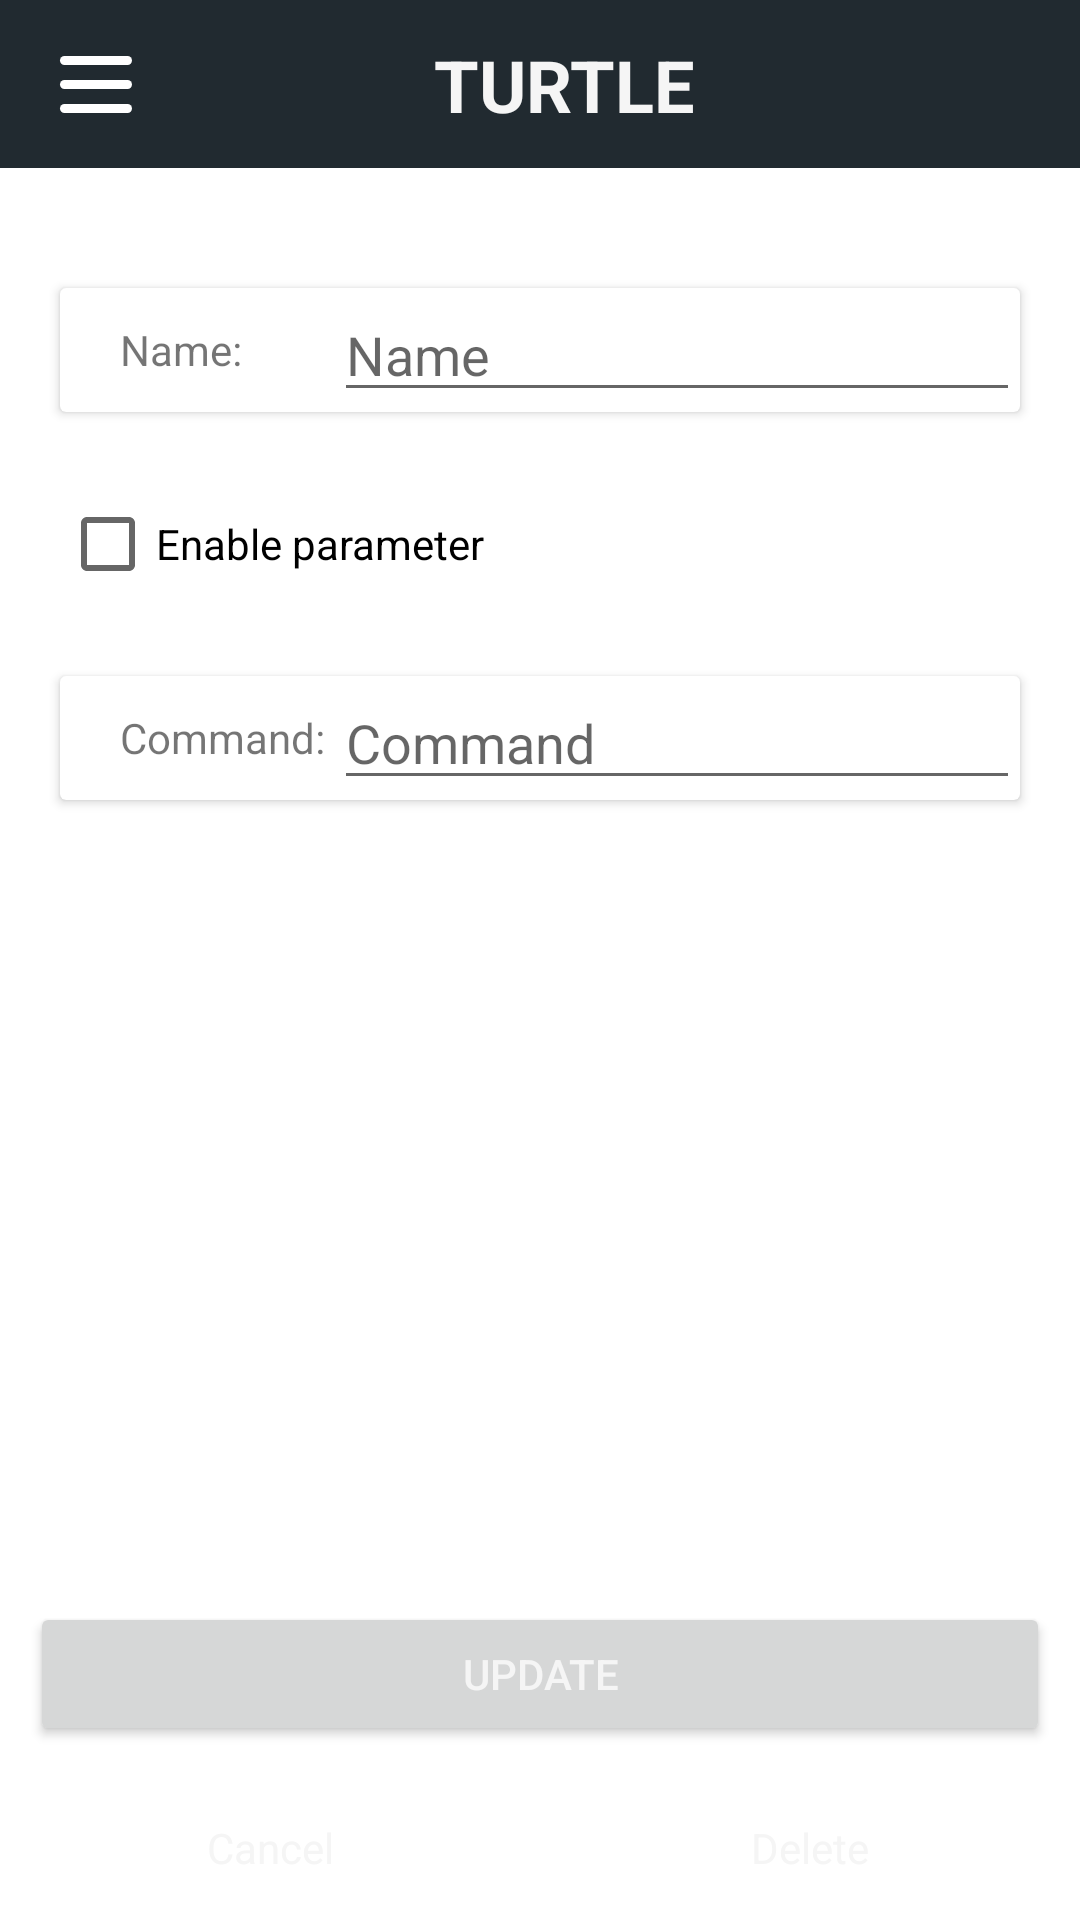

Where icons sit on this 1080w x 1920h app screen, as rect(x1, y1, x2, y2):
Menu button: rect(60, 56, 132, 113)
